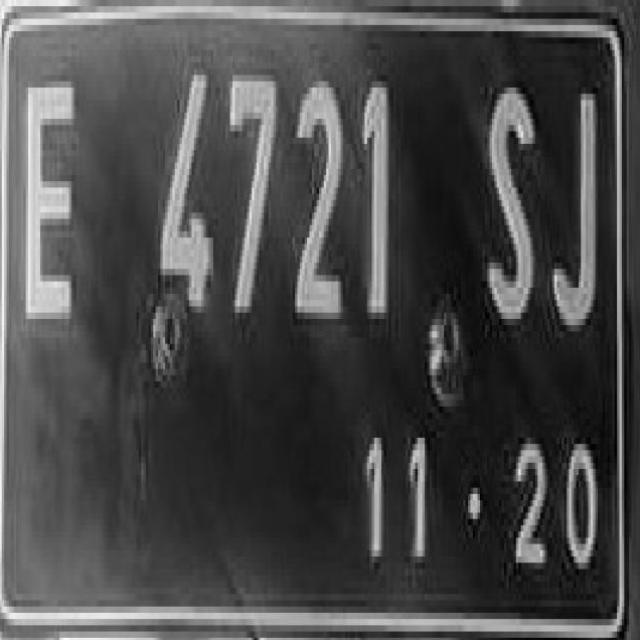1: (354, 68, 402, 324)
2: (288, 67, 354, 317)
4: (156, 54, 214, 314)
7: (224, 55, 282, 317)
E: (22, 77, 82, 329)
J: (546, 86, 606, 330)
S: (465, 77, 544, 332)
